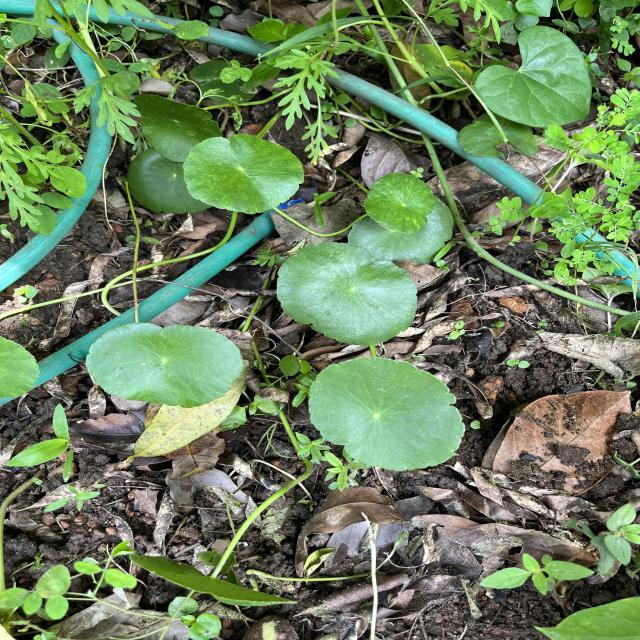Bacopa monnieri: (305, 354, 468, 474), (274, 239, 420, 348), (82, 320, 245, 410), (180, 131, 306, 217), (362, 171, 436, 236)
